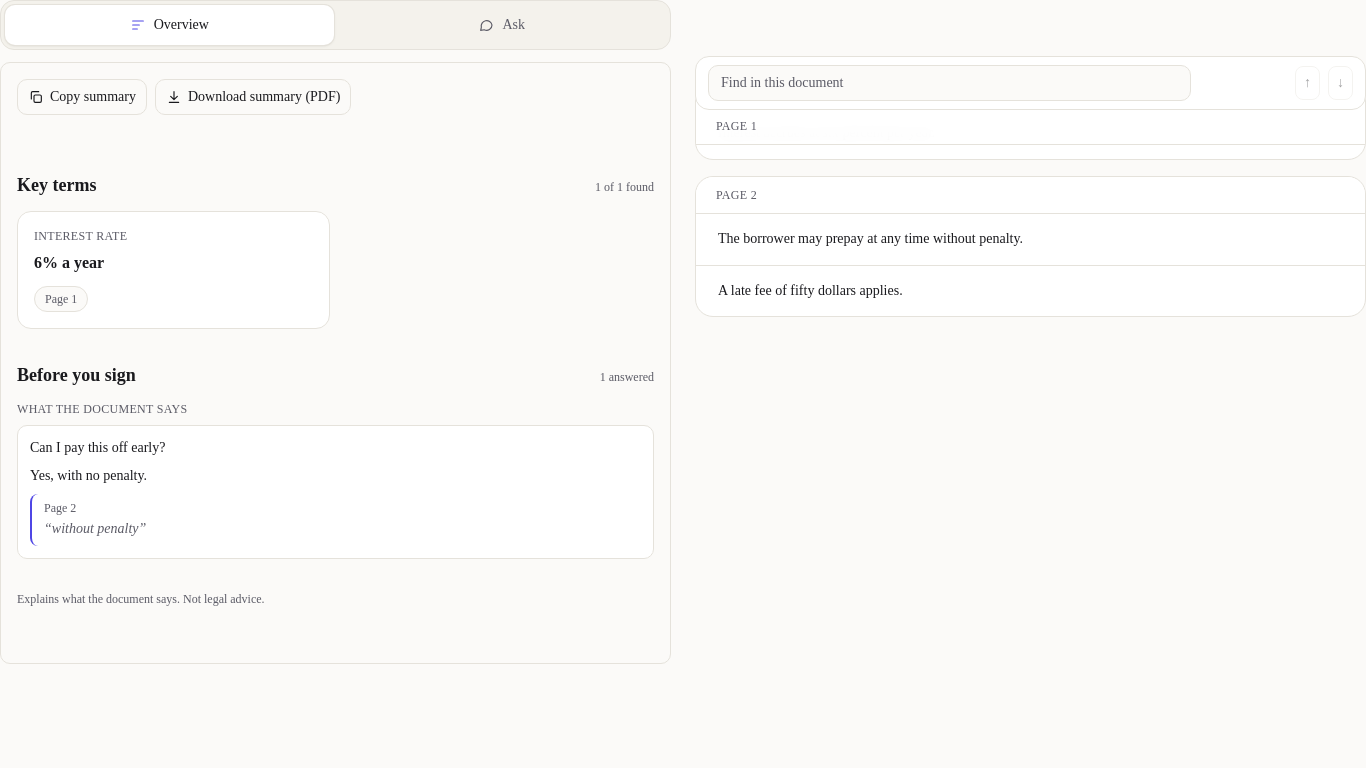
Test: DocumentWorkspace tabs › keeps the conversation when moving between tabs
Click the tab "Ask" at (502, 25), box [338,5,666,45]
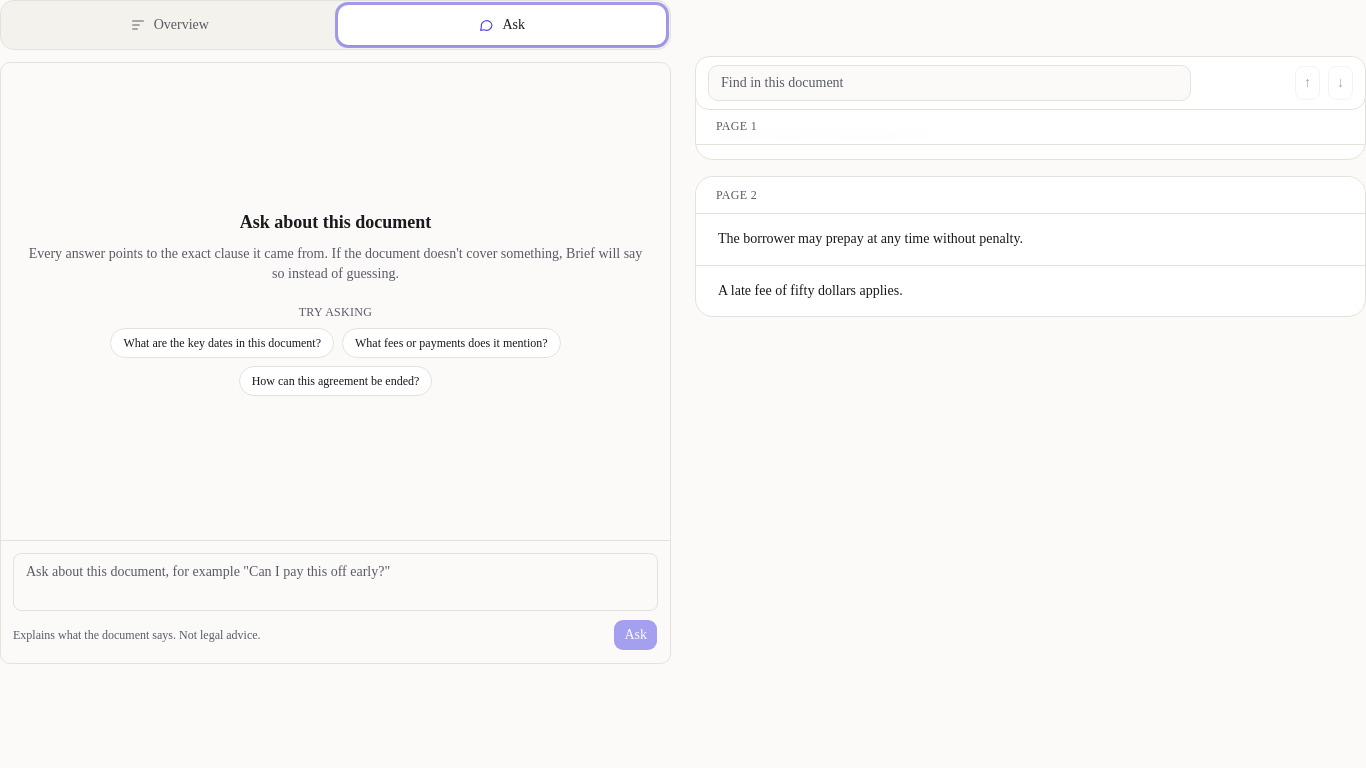
Type "Can I pay early?" into the text box named "Your question" at (336, 582), box [13,553,658,611]
Then press Enter
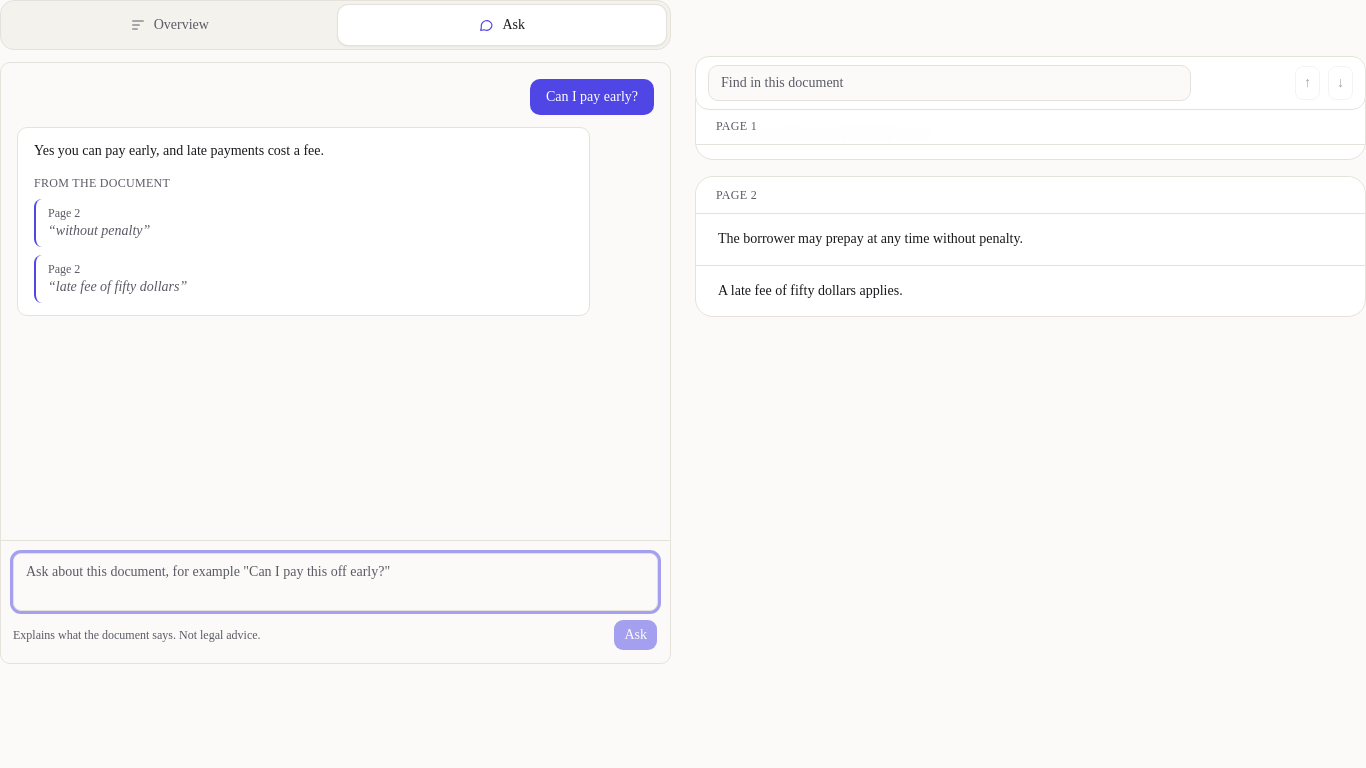
Now the text "Yes you can pay early, and late payments cost a fee." is shown, box [34,143,324,158]
Click the tab "Overview" at (169, 25), box [5,5,334,45]
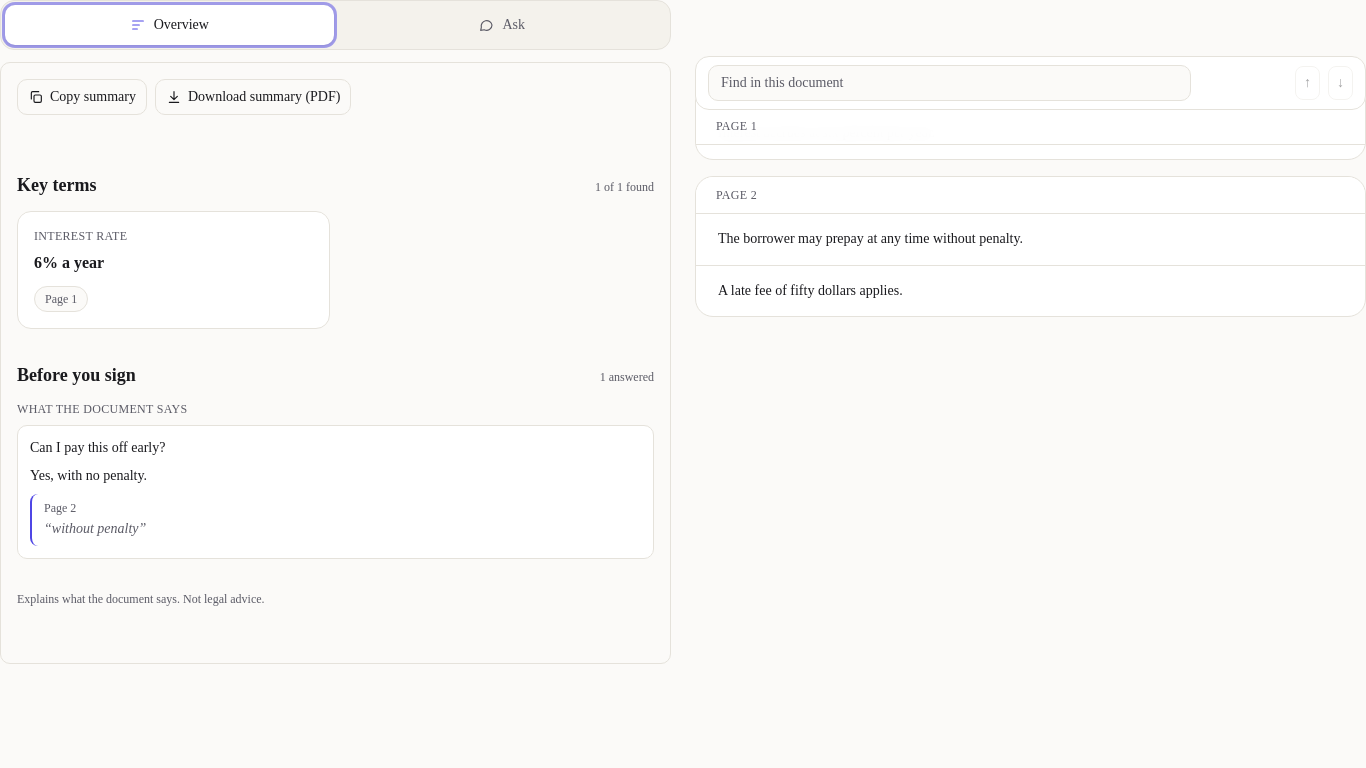
Click the tab "Ask" at (502, 25), box [338,5,666,45]
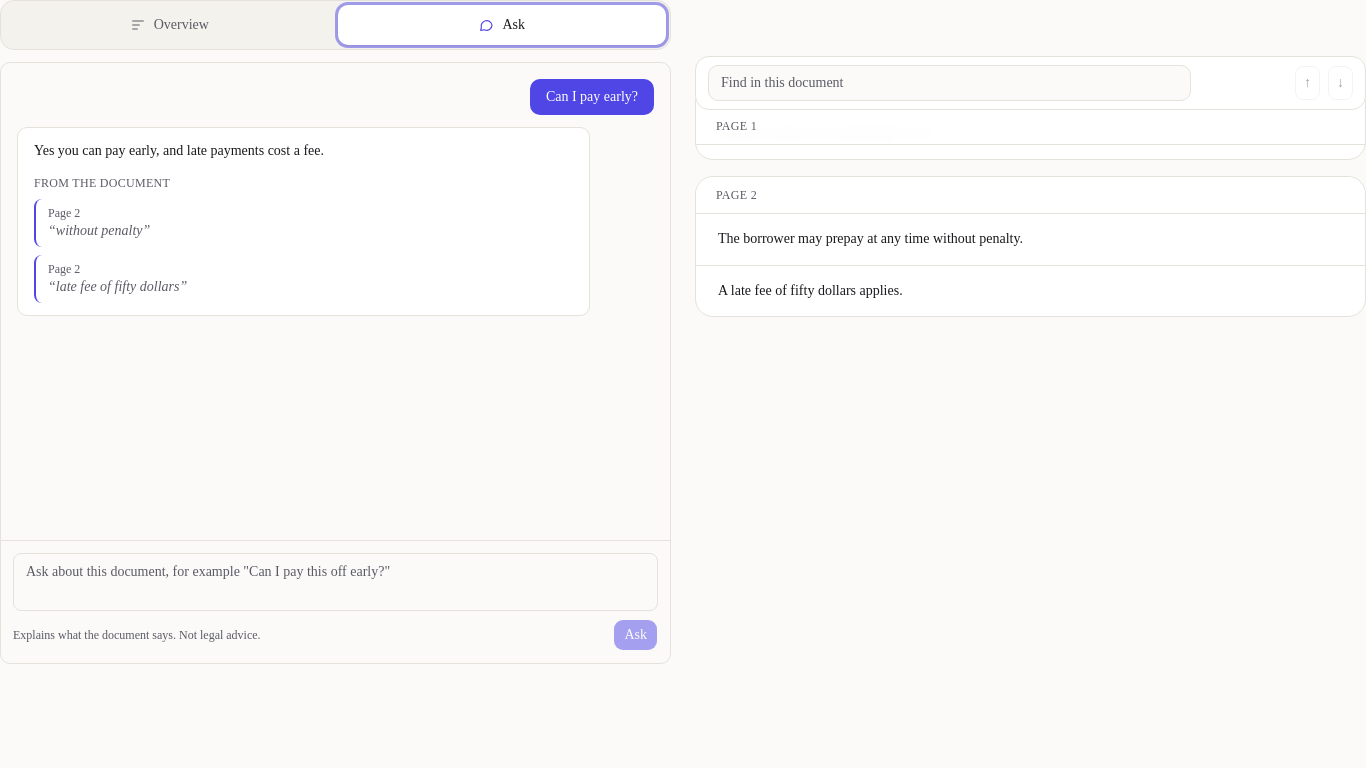
Now the text "Yes you can pay early, and late payments cost a fee." is shown, box [34,143,324,158]
